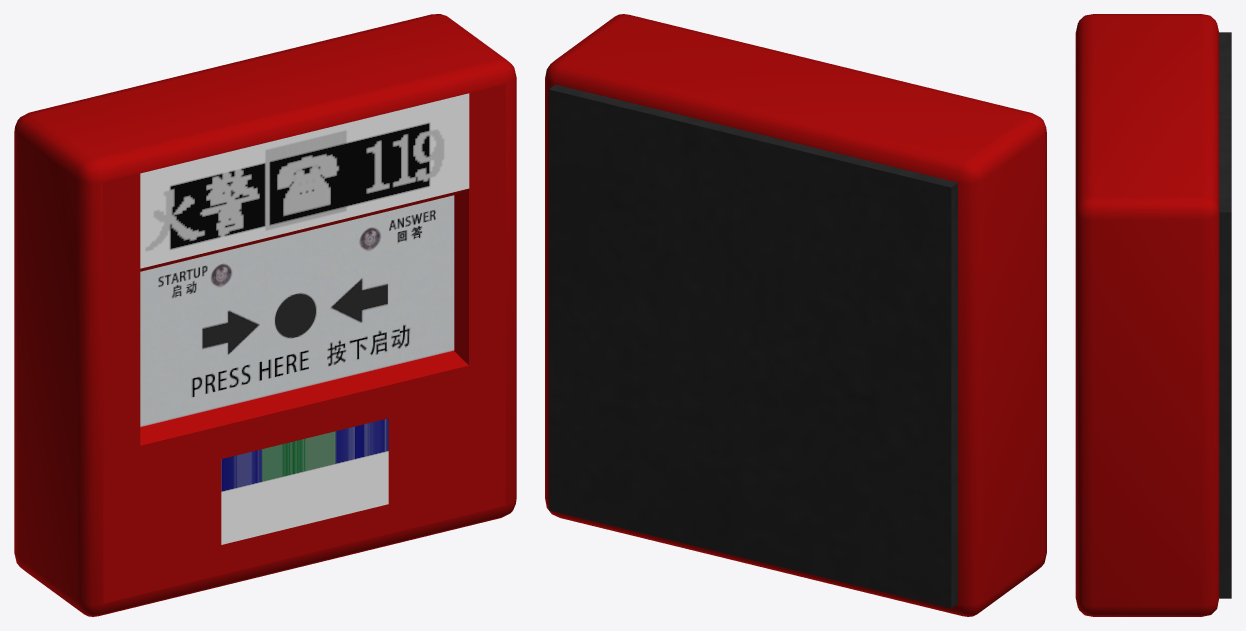
The model's file is SM_消防报警器001.fbx.
3 renders of one model, left to right at view 1: azimuth 30°, elevation 25°; view 2: azimuth 150°, elevation 25°; view 3: azimuth 270°, elevation 25°, orthographic. The views are drawn at different scales.
Parts seen in each view (by area): view 1: SM_消防报警器001; view 2: SM_消防报警器001; view 3: SM_消防报警器001.
Boxes of the visible parts, x1,y1,x2,y2 form: SM_消防报警器001: (14, 14, 516, 616); SM_消防报警器001: (545, 14, 1046, 616); SM_消防报警器001: (1075, 14, 1231, 616).
Size of the model in its own units: 10 by 10 by 3.39.
